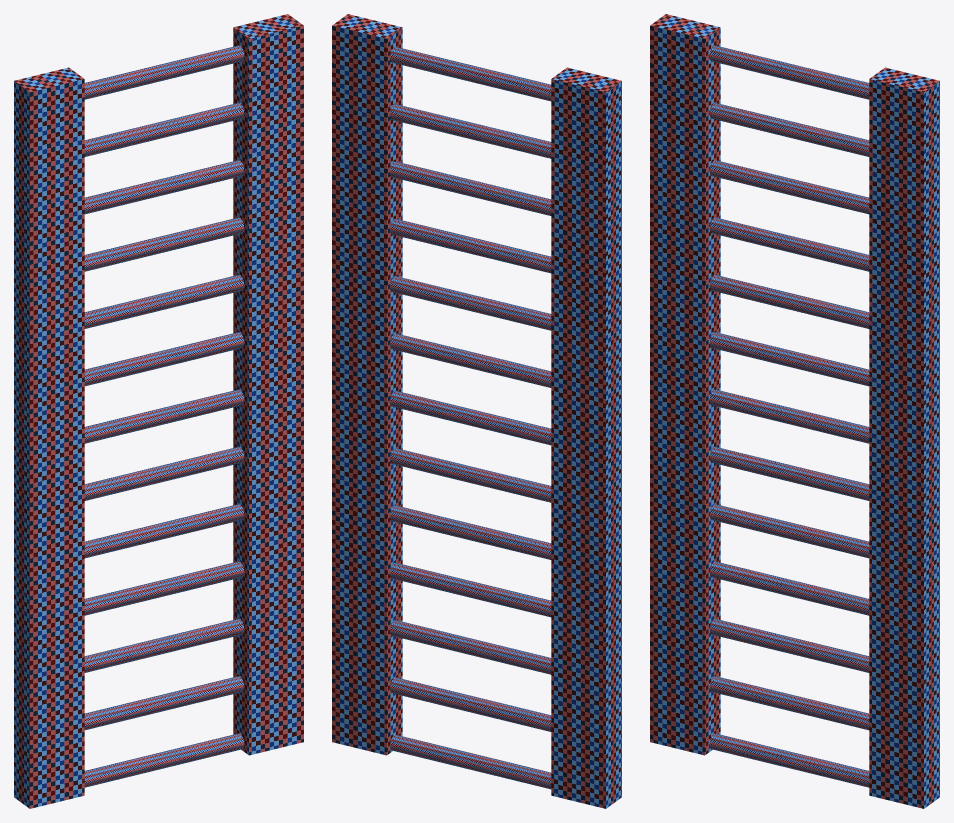
Rendered from ladder.fbx.
3 views of the same model, side by side, from view 1: azimuth 30°, elevation 25°; view 2: azimuth 150°, elevation 25°; view 3: azimuth 330°, elevation 25° (orthographic).
Visible parts, largest first — view 1: Ladder_01; view 2: Ladder_01; view 3: Ladder_01.
Part boxes in pixels (x1=…): Ladder_01: x1=14, y1=14, x2=303, y2=808; Ladder_01: x1=332, y1=14, x2=621, y2=808; Ladder_01: x1=650, y1=14, x2=939, y2=808.
Size of the model in its own units: 200 by 500 by 20.
1 material, 1 textured.
